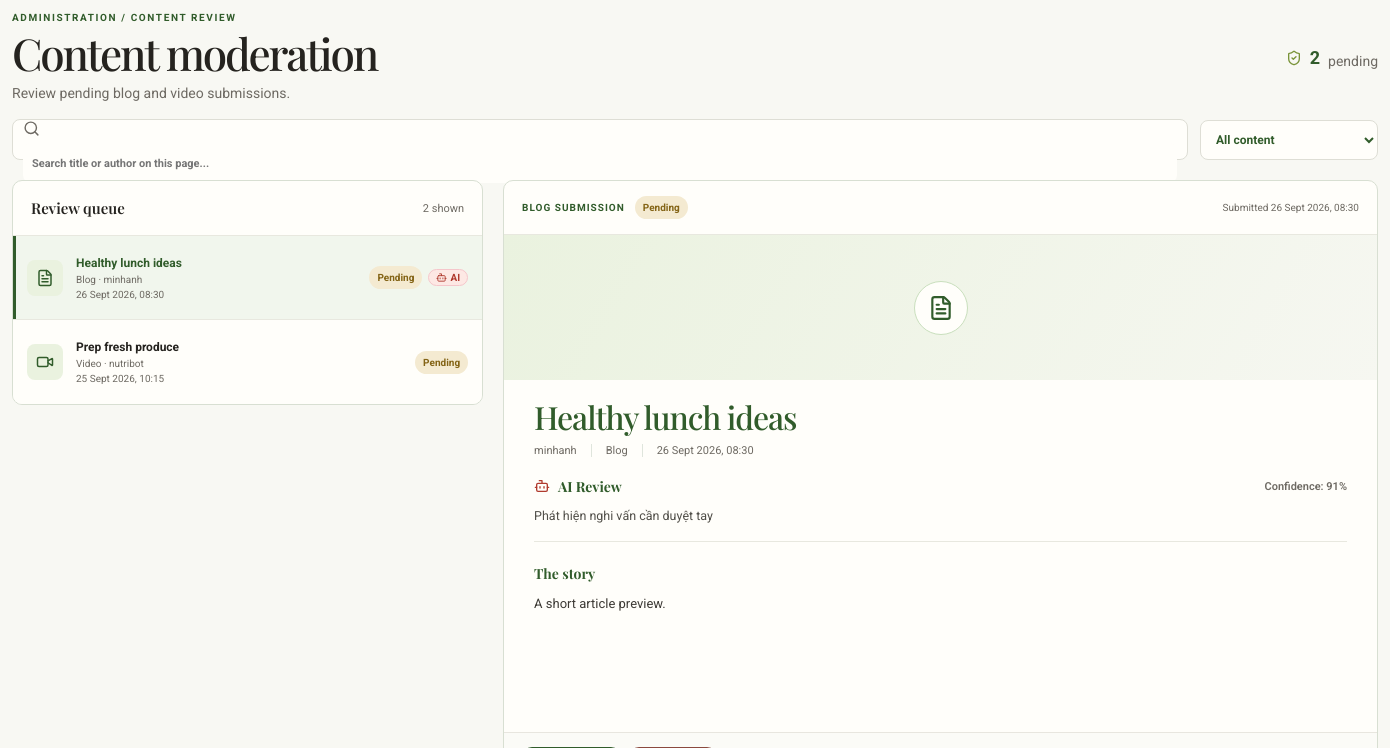
admin moderation screen › searches loaded queue entries and keeps title and submission text separate
The width and height of the screenshot is (1390, 748).
Check: the text "A short article preview." is shown, box top-left (534, 596), bottom-right (666, 611)
Type "produce" into the field labelled "Search title or author" at (600, 163), box top-left (23, 143), bottom-right (1177, 183)
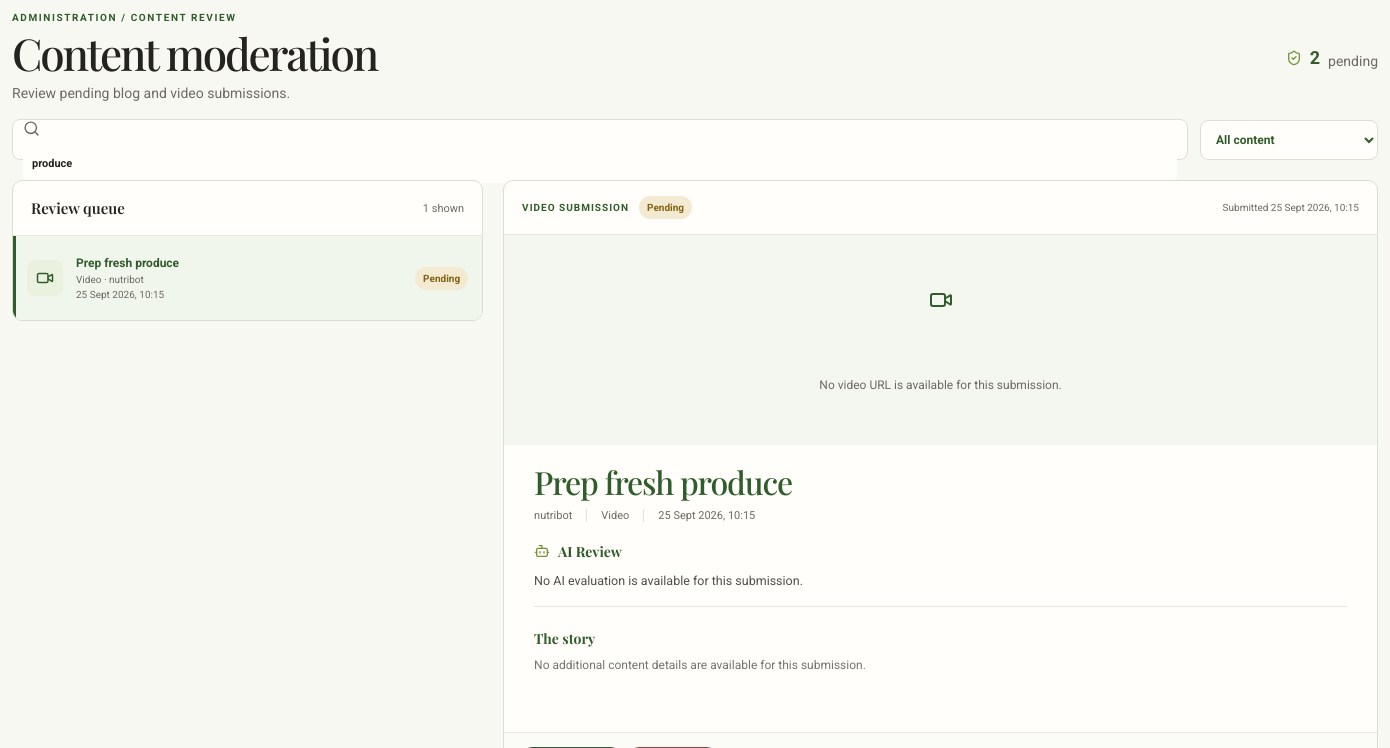
Check: the heading "Prep fresh produce" is shown, box top-left (534, 460), bottom-right (792, 503)
Check: the button "Healthy lunch ideas" is gone
